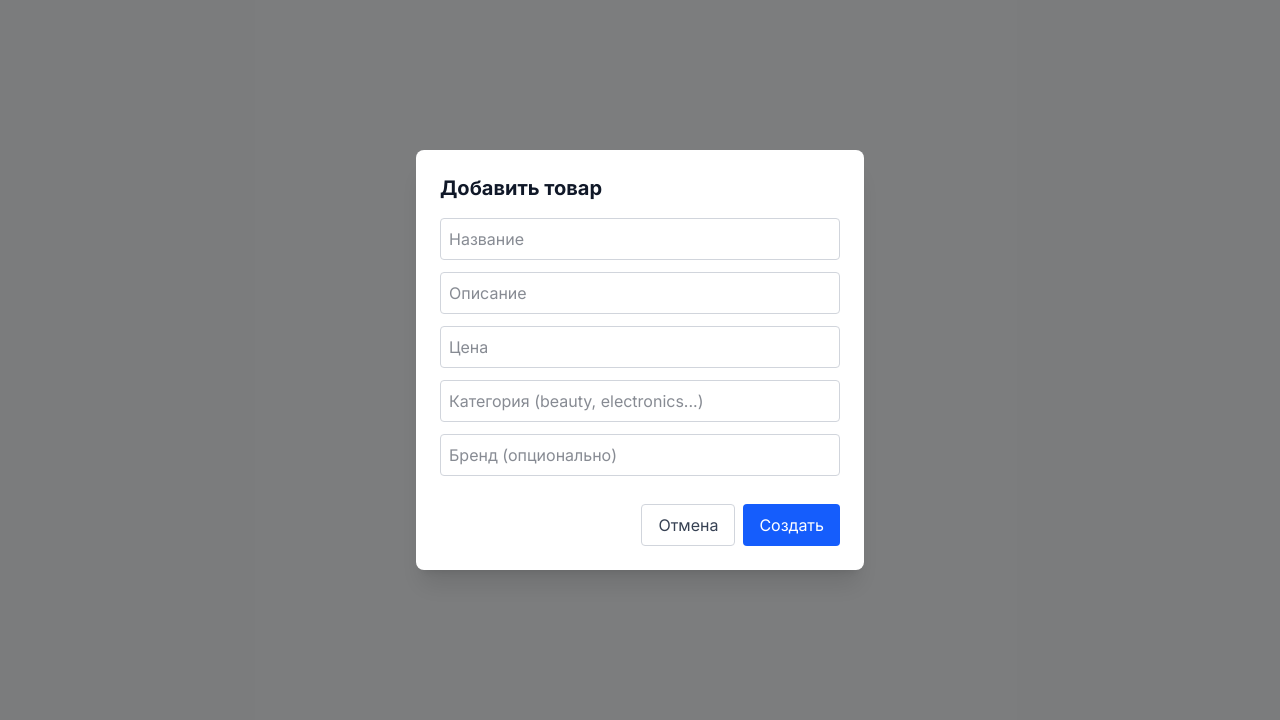
Test case: ProductForm › Показывает сообщение об ошибке Zod при неверном вводе
Write a very short address (less than 3 characters)
Type "ab" into the field with placeholder "Название" at (640,239), box [440,218,840,260]
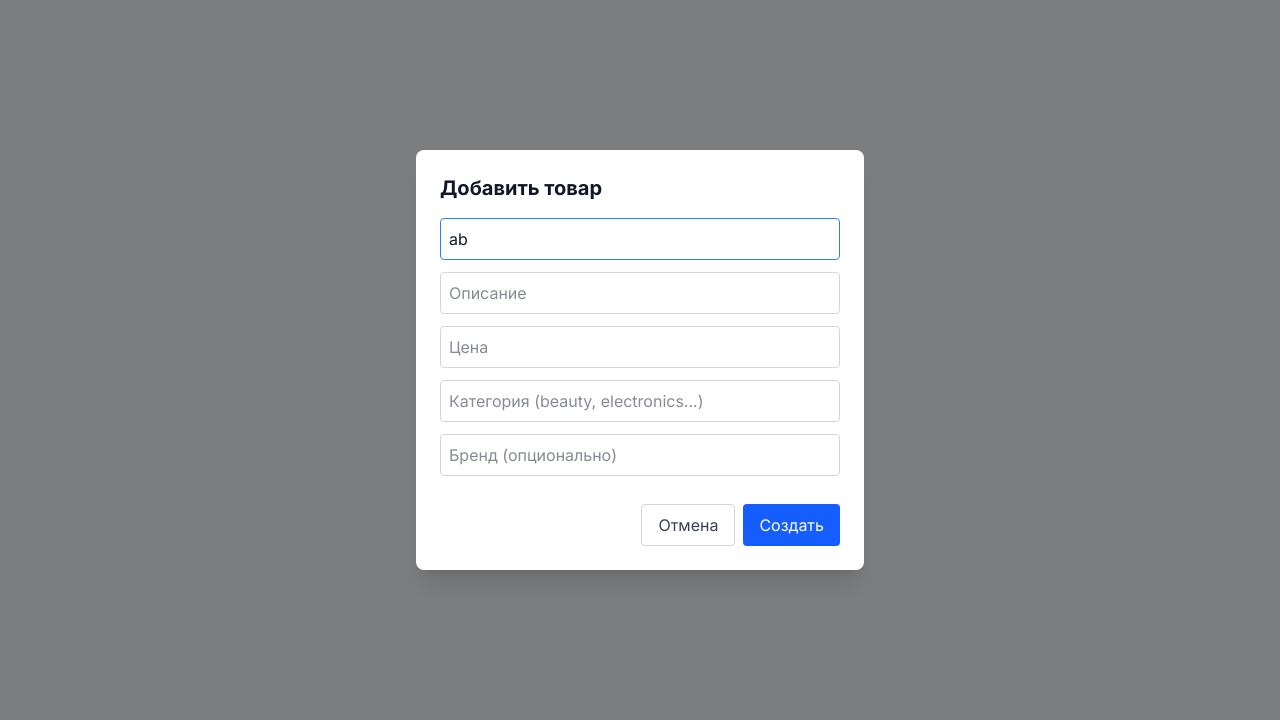
Click the button "Создать" at (792,525), box [743,504,840,546]
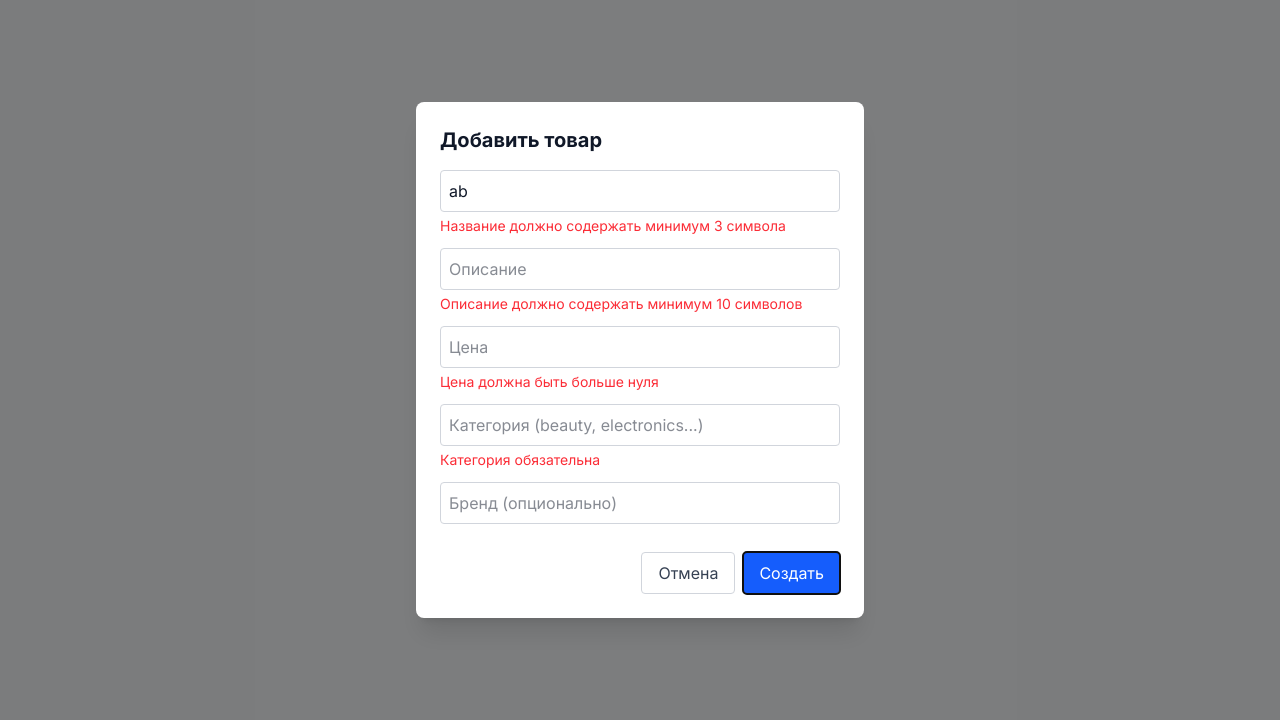
Now the text "Название должно содержать минимум 3 символа" is shown, box [440,216,840,236]
